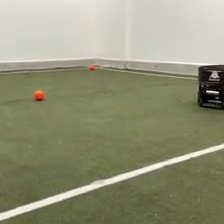ball: (32, 88, 45, 101), (88, 62, 96, 70)
robot: (196, 61, 224, 111)
